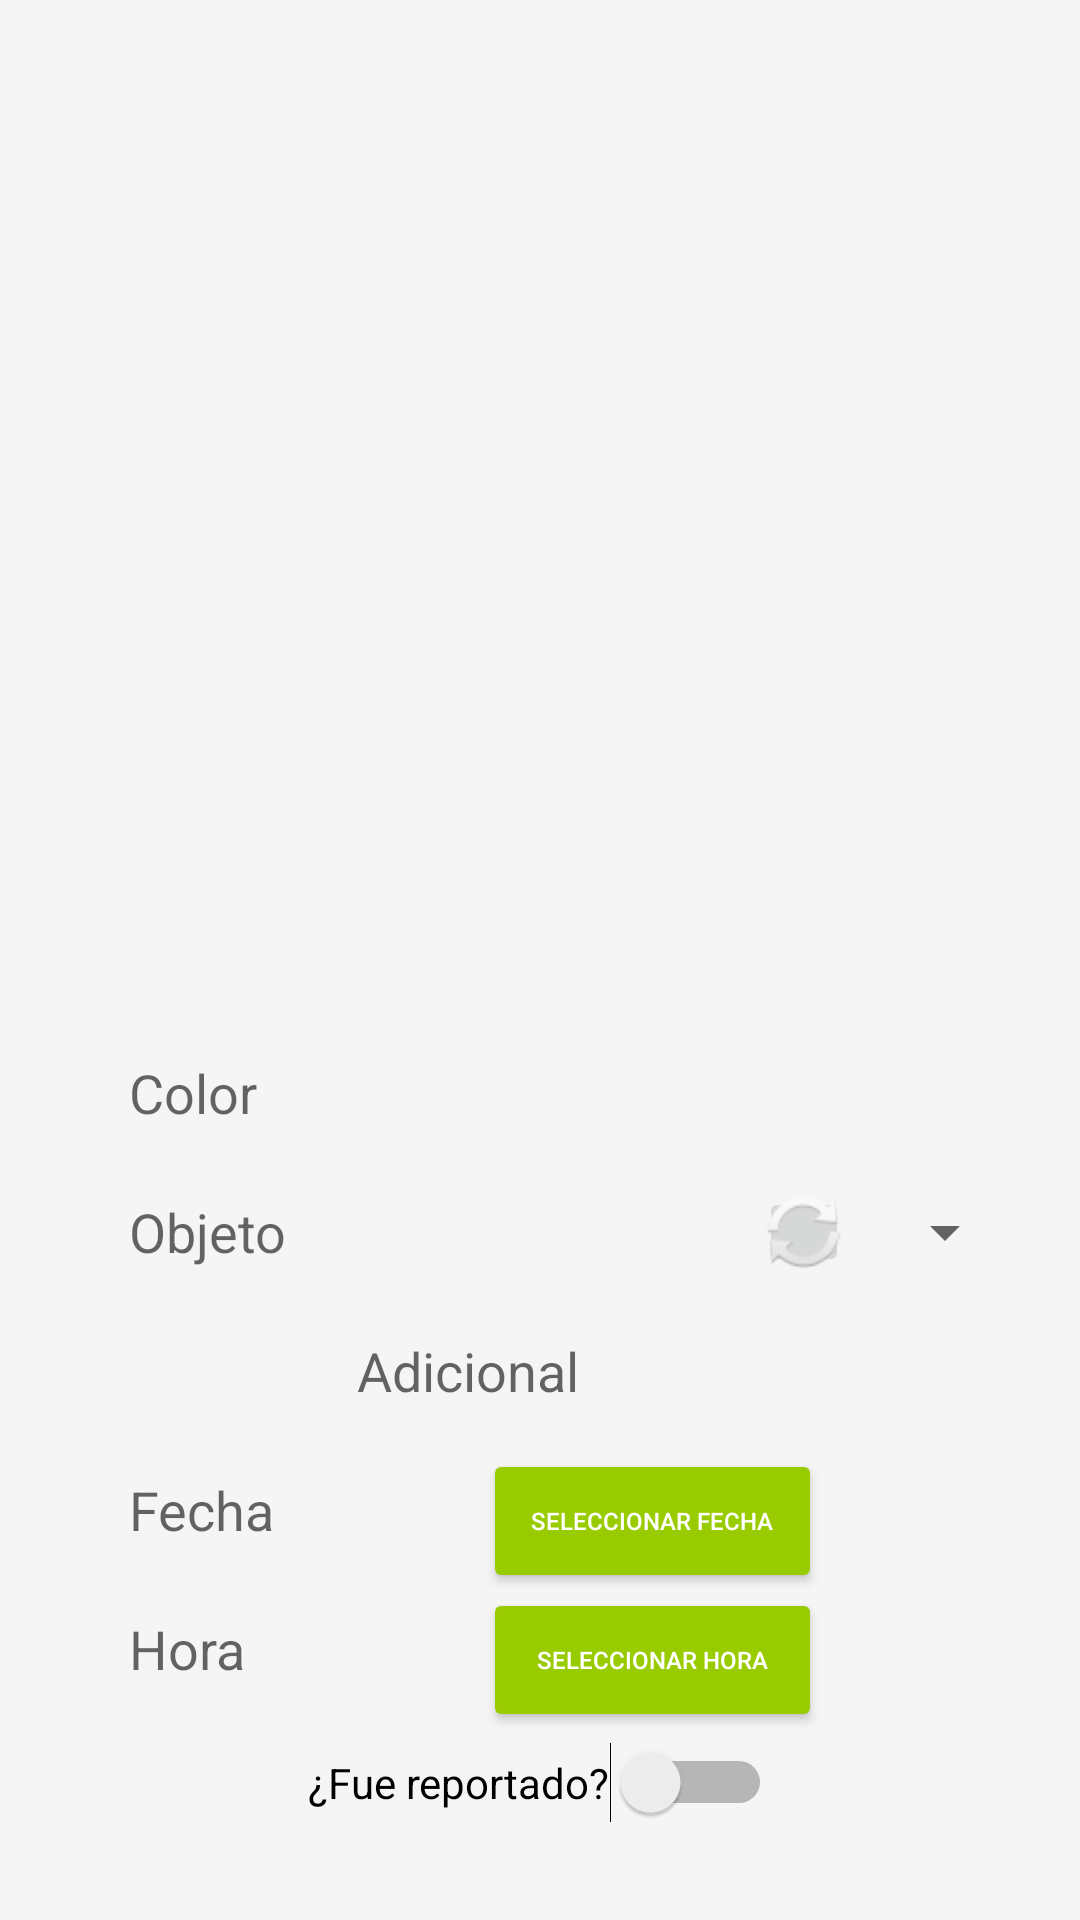

Named icons in this screenshot (1080*1920) and their centers, [x,y]:
popup sync: [802,1236]
